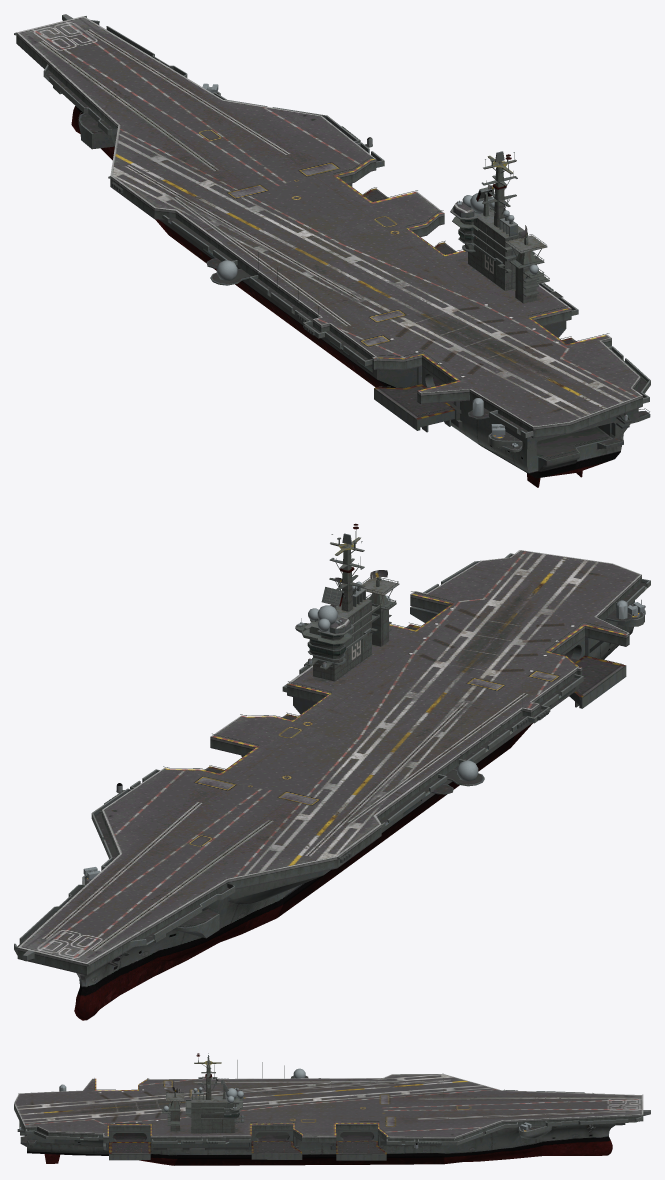
The model's file is aircraft_carrier.glb.
3 views of the same model, one above another, from view 1: azimuth 30°, elevation 25°; view 2: azimuth 150°, elevation 25°; view 3: azimuth 270°, elevation 25° (orthographic). The views are drawn at different scales.
Parts seen in each view (by area): view 1: Object_3, Object_2; view 2: Object_3, Object_2; view 3: Object_3, Object_2.
Part boxes in pixels (<box>): Object_3: <box>16,16,650,446</box>; Object_2: <box>14,14,650,487</box>; Object_3: <box>14,523,650,965</box>; Object_2: <box>15,526,645,1020</box>; Object_3: <box>14,1053,643,1165</box>; Object_2: <box>14,1053,650,1165</box>.
Size of the model in its own units: 294 by 242 by 1062.
2 materials, 2 textured.
